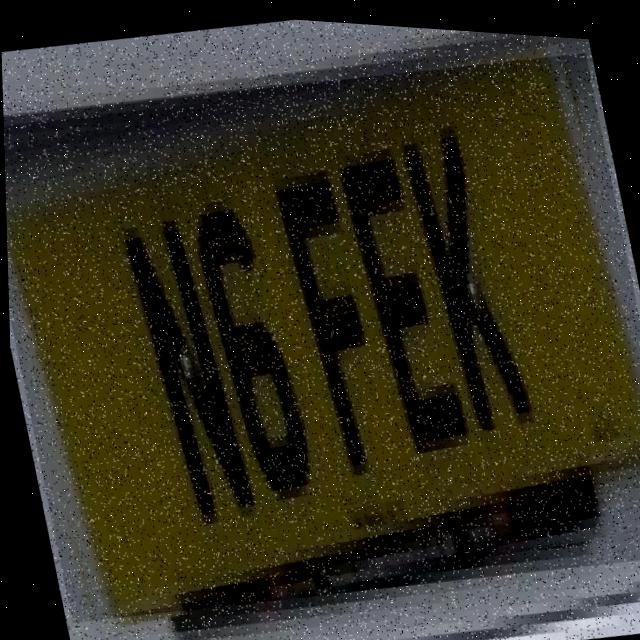LicensePlate: (0, 13, 640, 640)
